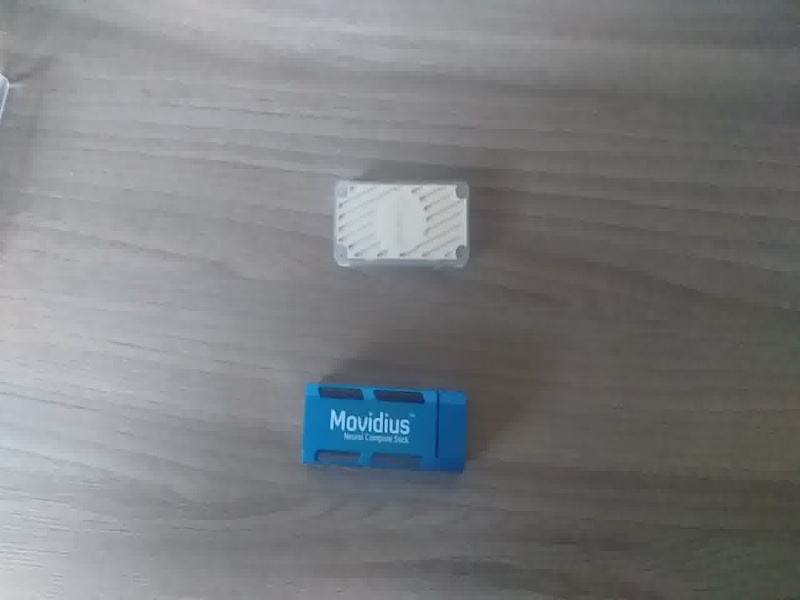coral: (318, 176, 482, 283)
movidius: (295, 374, 478, 483)
